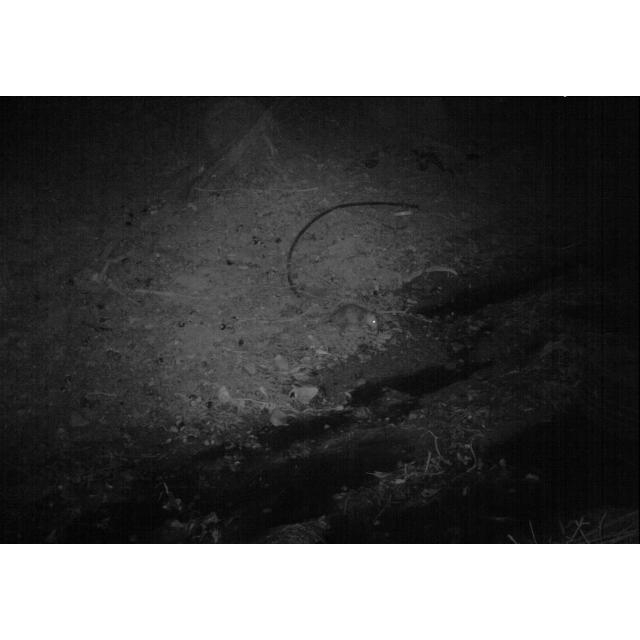animals: (316, 303, 382, 335)
